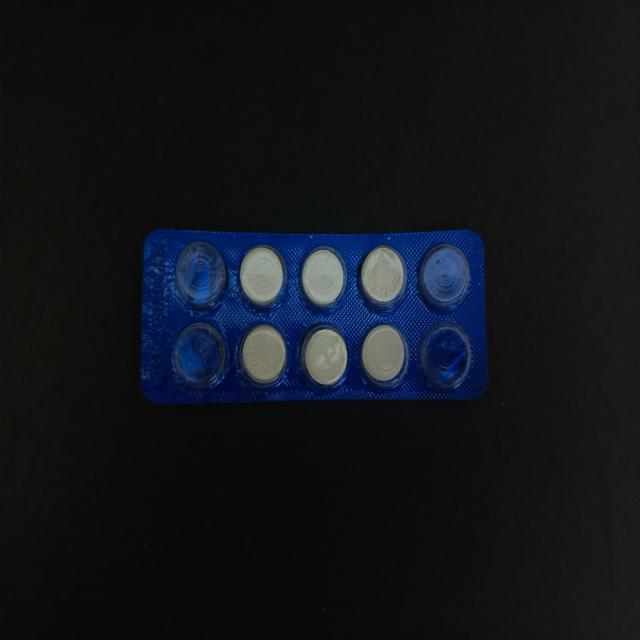defect: (169, 318, 230, 393), (172, 238, 231, 314), (417, 318, 474, 394), (416, 241, 472, 313)
